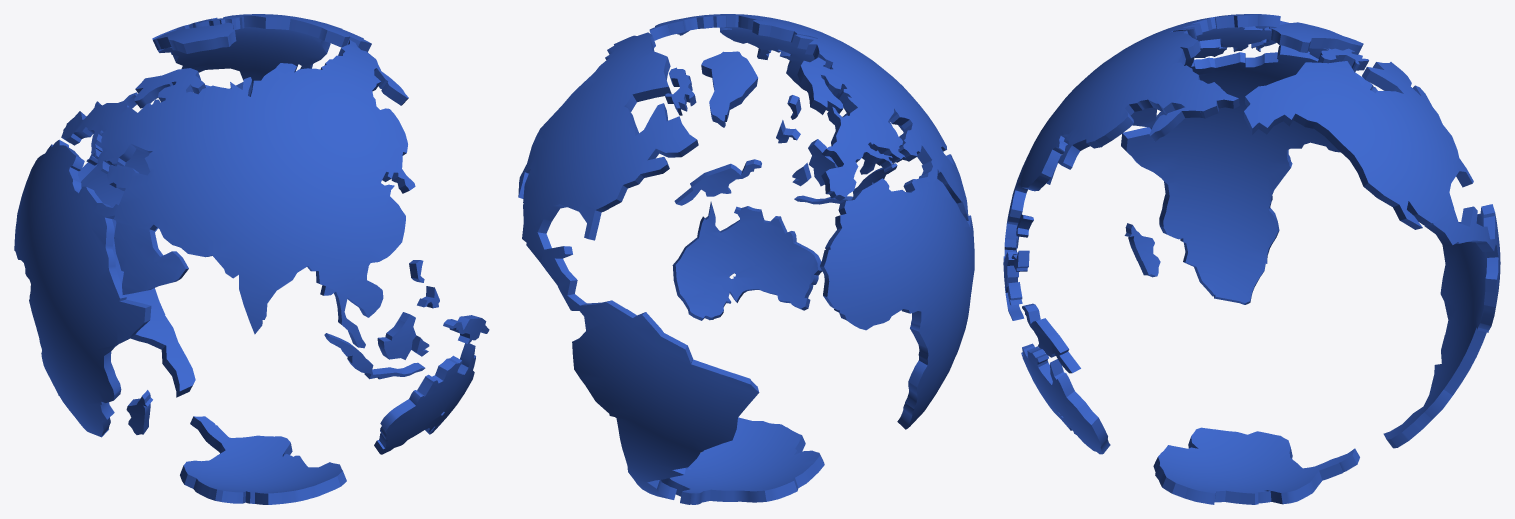
File: Land.fbx
3 views of the same model, side by side, from view 1: azimuth 30°, elevation 25°; view 2: azimuth 150°, elevation 25°; view 3: azimuth 270°, elevation 25° (orthographic).
Visible parts, largest first — view 1: polySurface1 polySurface9; view 2: polySurface1 polySurface9; view 3: polySurface1 polySurface9.
Boxes of the visible parts, <box> form: polySurface1 polySurface9: <box>14,14,489,504</box>; polySurface1 polySurface9: <box>518,14,974,504</box>; polySurface1 polySurface9: <box>1003,14,1500,504</box>.
Bounding box in the file's own units: 645 × 770 × 773.
